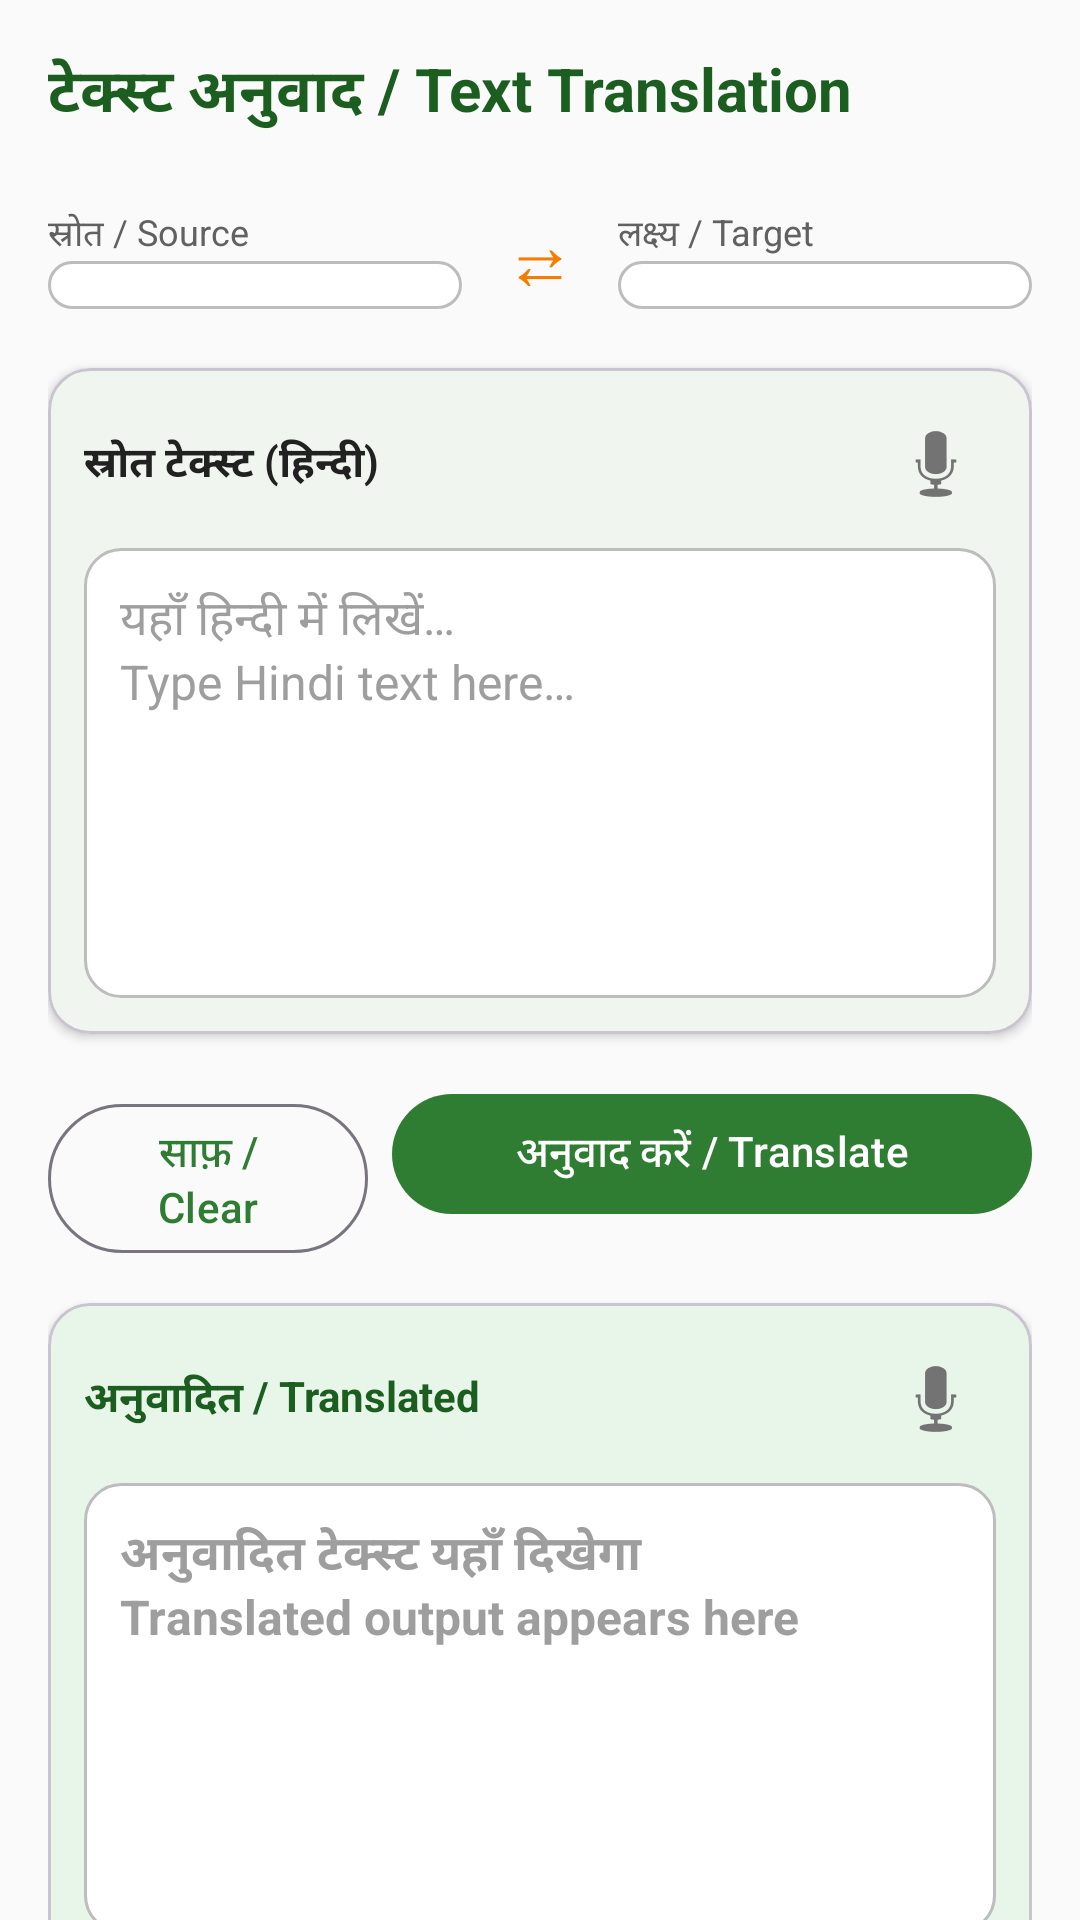

Named icons in this screenshot (1080*1920) and their bounding boxes, (x1, y1, x2, y2):
बोलें: (915, 431, 957, 497)
